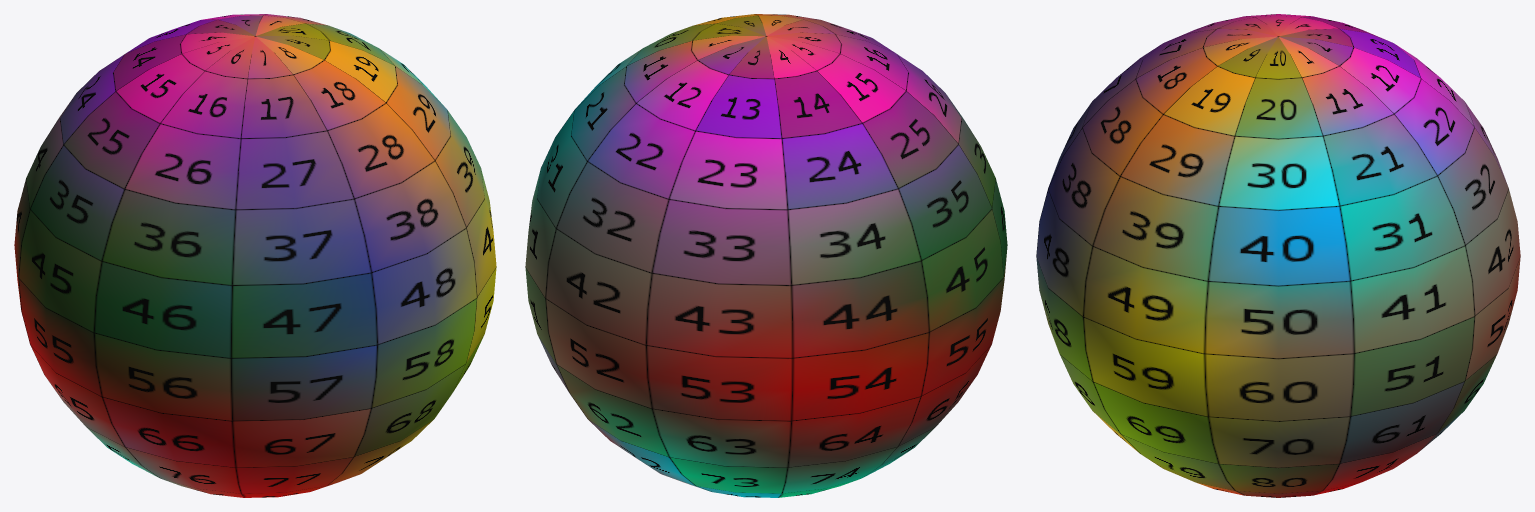
Rendered from cpvSphere.glb.
3 views of the same model, side by side, from view 1: azimuth 30°, elevation 25°; view 2: azimuth 150°, elevation 25°; view 3: azimuth 270°, elevation 25° (orthographic).
Visible parts, largest first — view 1: cpvSphere; view 2: cpvSphere; view 3: cpvSphere.
Boxes of the visible parts, <box> form: cpvSphere: <box>14,14,496,497</box>; cpvSphere: <box>525,14,1007,497</box>; cpvSphere: <box>1036,14,1520,497</box>.
Size of the model in its own units: 2 by 2 by 2.
Materials: 1 (1 with a texture image).
